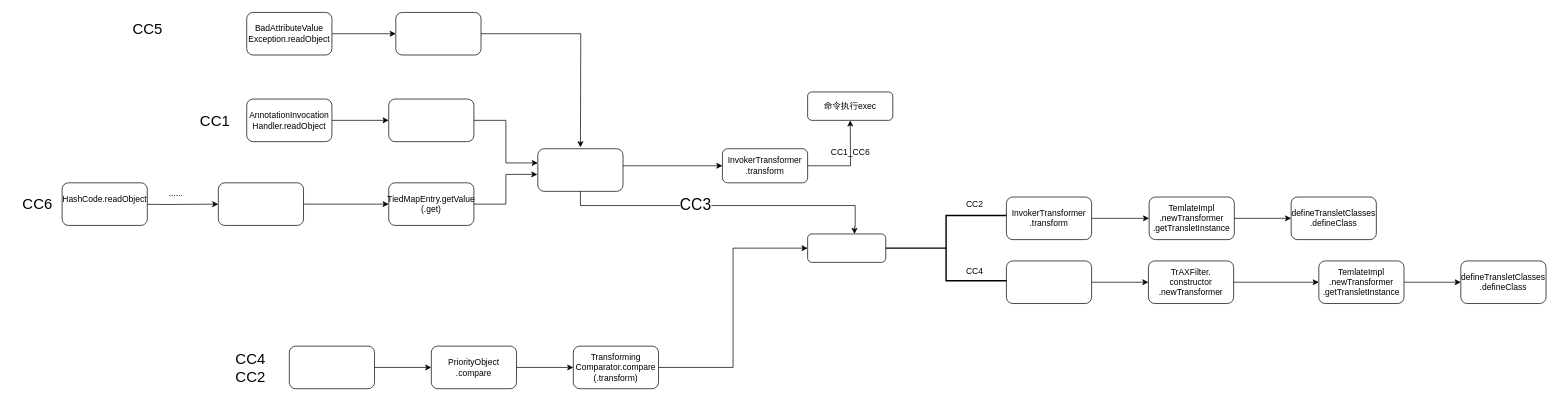
Image size: 1558x401. Some labels were removed from this diagram. The shapes that lost their labels are listed below. From the top down, each one's centre as x and y in pixels, then its label:
At point 438,33: "TiedMapEntry.toString".
At point 431,120: "AnnotationInvocation Handler .invoke(.get)".
At point 580,169: "LazyMap.get.(transform)".
At point 261,203: "HashCode.hash (.hashCode)".
At point 846,247: "代码执行".
At point 1049,282: "InstantiateTransformer .transform".
At point 332,367: "PriorityQueue .readObject".
